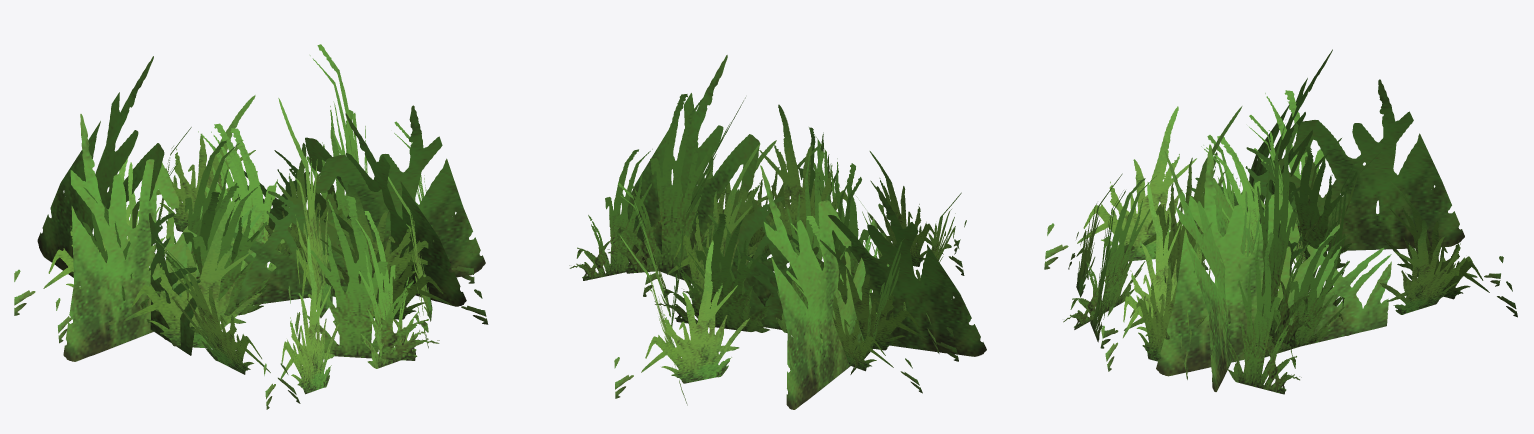
The model's file is Groupe_Herbe_01.fbx.
3 views of the same model, side by side, from view 1: azimuth 30°, elevation 25°; view 2: azimuth 150°, elevation 25°; view 3: azimuth 270°, elevation 25° (orthographic). The views are drawn at different scales.
Parts seen in each view (by area): view 1: Groupe_Herbe_01; view 2: Groupe_Herbe_01; view 3: Groupe_Herbe_01.
Boxes of the visible parts, <box> form: Groupe_Herbe_01: <box>14,44,488,409</box>; Groupe_Herbe_01: <box>569,55,986,409</box>; Groupe_Herbe_01: <box>1044,49,1517,394</box>.
Size of the model in its own units: 1.62 by 0.9576 by 1.68.
